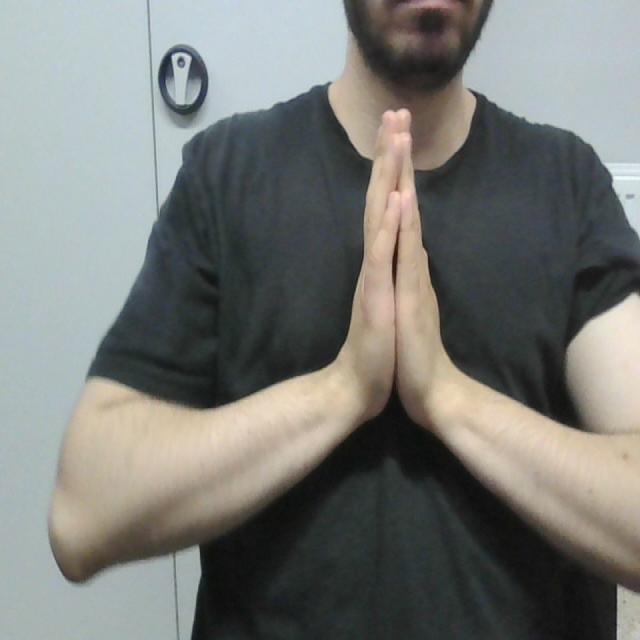Ozur-Dilemek: (332, 100, 459, 452)
